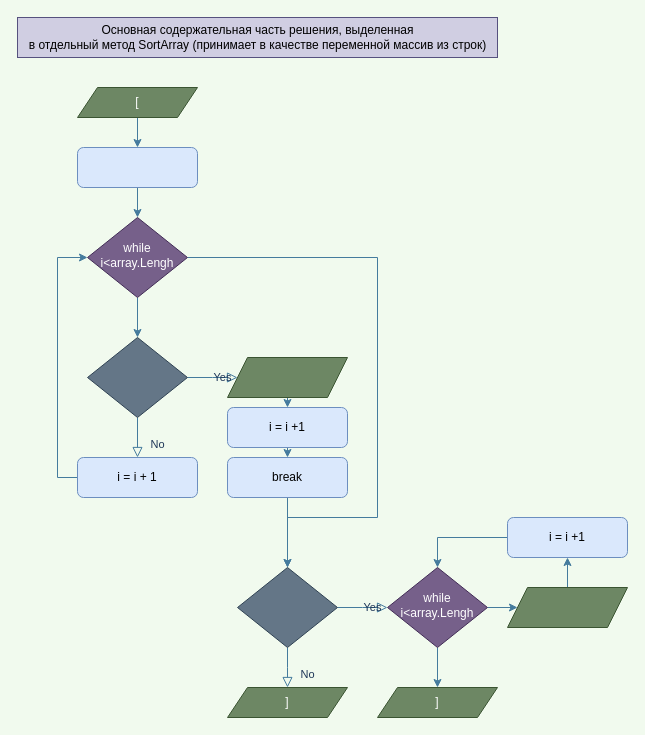
Image size: 645x735. Some labels were removed from this diagram. Here are the shapes that lost their labels. From the top down, the box of each, then its label:
(76, 146, 198, 188): i = 0
(86, 336, 188, 418): array[i].Length <= 3
(226, 356, 348, 398): array[i]
(236, 566, 338, 648): i < array.Length?
(506, 586, 628, 628): , array[i]
